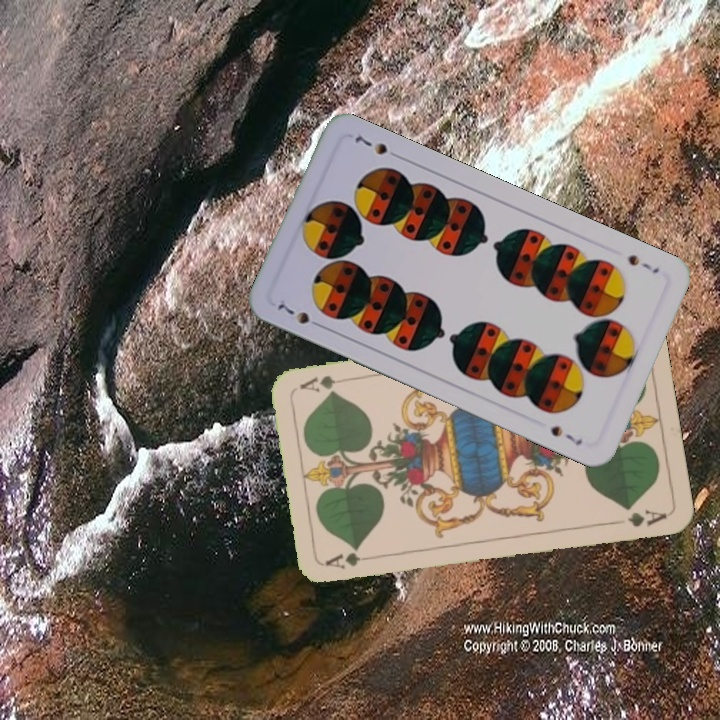GA: (322, 550, 382, 572)
S7: (274, 299, 326, 331), (624, 250, 662, 276)
